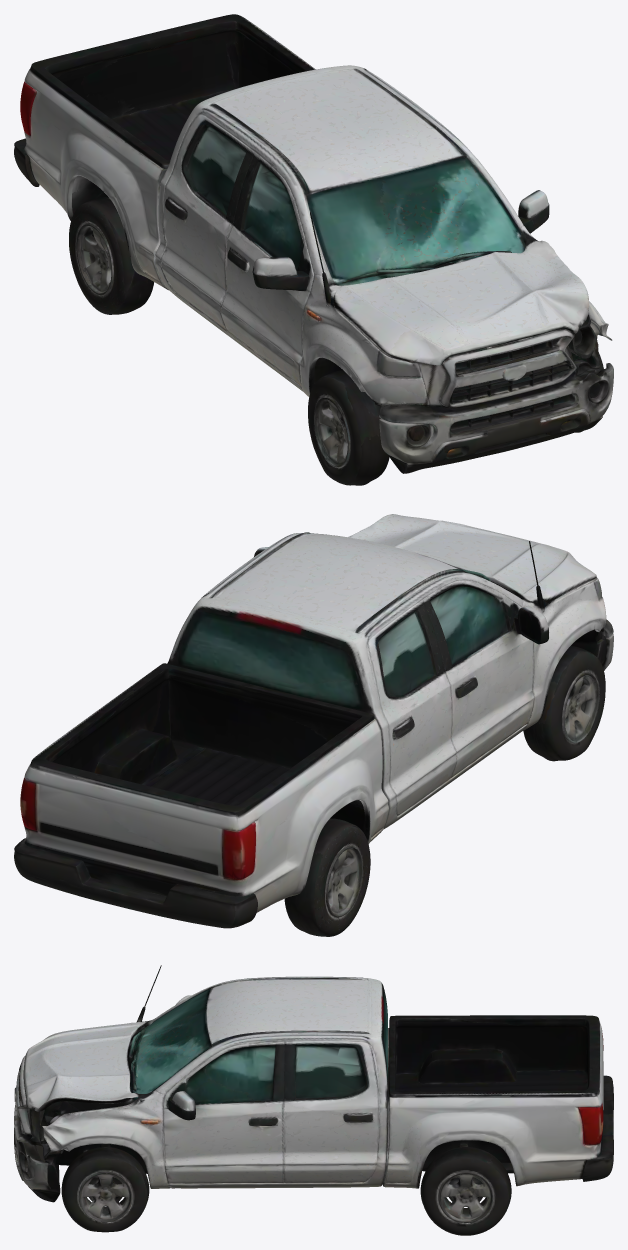
File: crashed_pickup_truck_ae555020_v2.glb
3 renders of one model, top to bottom at view 1: azimuth 30°, elevation 25°; view 2: azimuth 150°, elevation 25°; view 3: azimuth 270°, elevation 25°, orthographic. The views are drawn at different scales.
Visible parts, largest first — view 1: material; view 2: material; view 3: material.
Part boxes in pixels (left/top/right/bottom): material: left=14, top=14, right=613, bottom=485; material: left=14, top=514, right=613, bottom=936; material: left=14, top=965, right=613, bottom=1235.
Bounding box in the file's own units: 0.4922 × 0.3983 × 1.14.
Materials: 1 (1 with a texture image).
